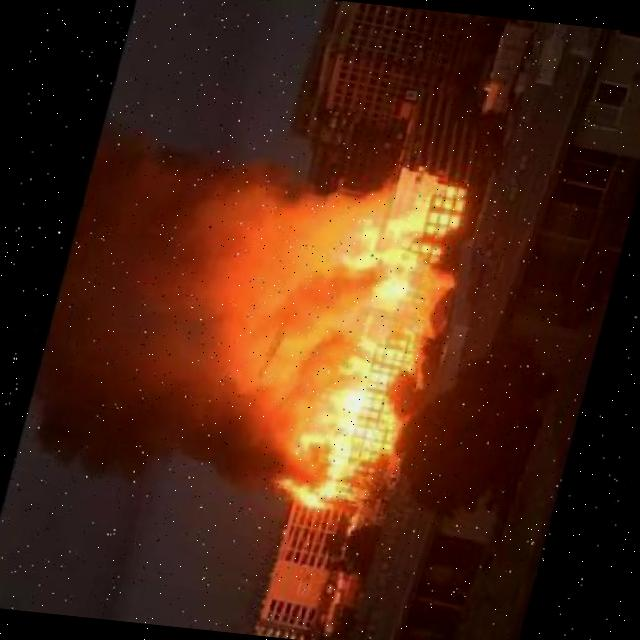fire: (165, 135, 483, 533)
